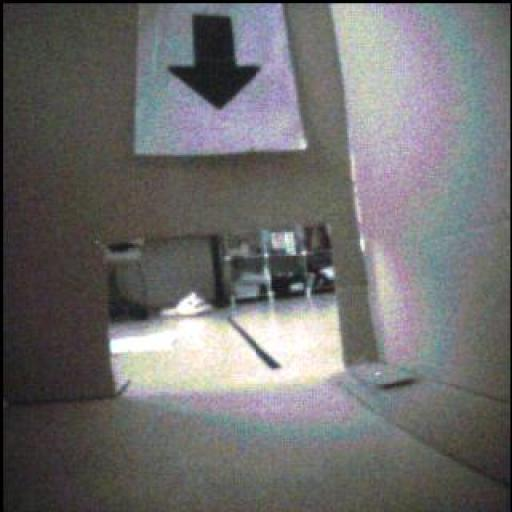arrow: (169, 15, 260, 110)
